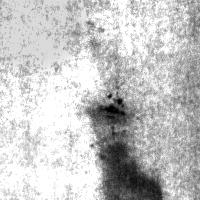patches: (87, 53, 200, 200), (0, 0, 96, 79), (0, 117, 78, 200), (97, 139, 164, 199), (100, 91, 128, 128)
